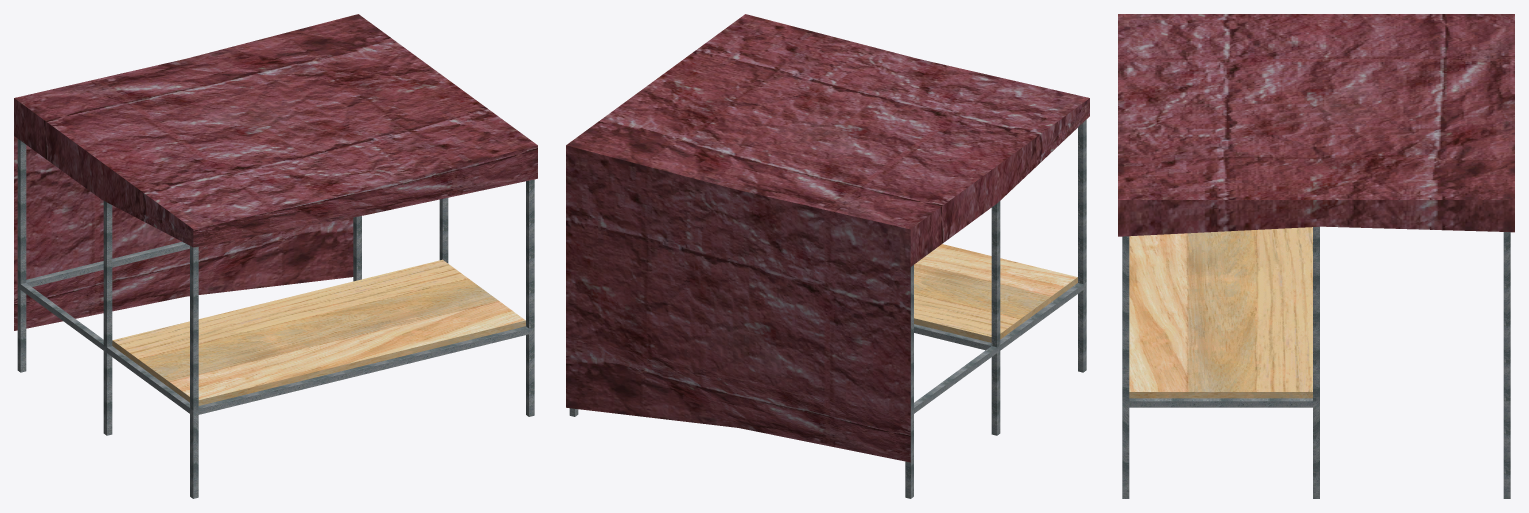
File: marketstall03_sfxrf.obj
3 views of the same model, side by side, from view 1: azimuth 30°, elevation 25°; view 2: azimuth 150°, elevation 25°; view 3: azimuth 270°, elevation 25° (orthographic). The views are drawn at different scales.
Visible parts, largest first — view 1: marketstall03_SFXRF; view 2: marketstall03_SFXRF; view 3: marketstall03_SFXRF.
Boxes of the visible parts, x1,y1,x2,y2 form: marketstall03_SFXRF: (14, 14, 537, 498); marketstall03_SFXRF: (566, 14, 1089, 498); marketstall03_SFXRF: (1118, 14, 1514, 498).
Bounding box in the file's own units: 3.13 × 2.36 × 2.82.
Materials: 3 (3 with a texture image).
